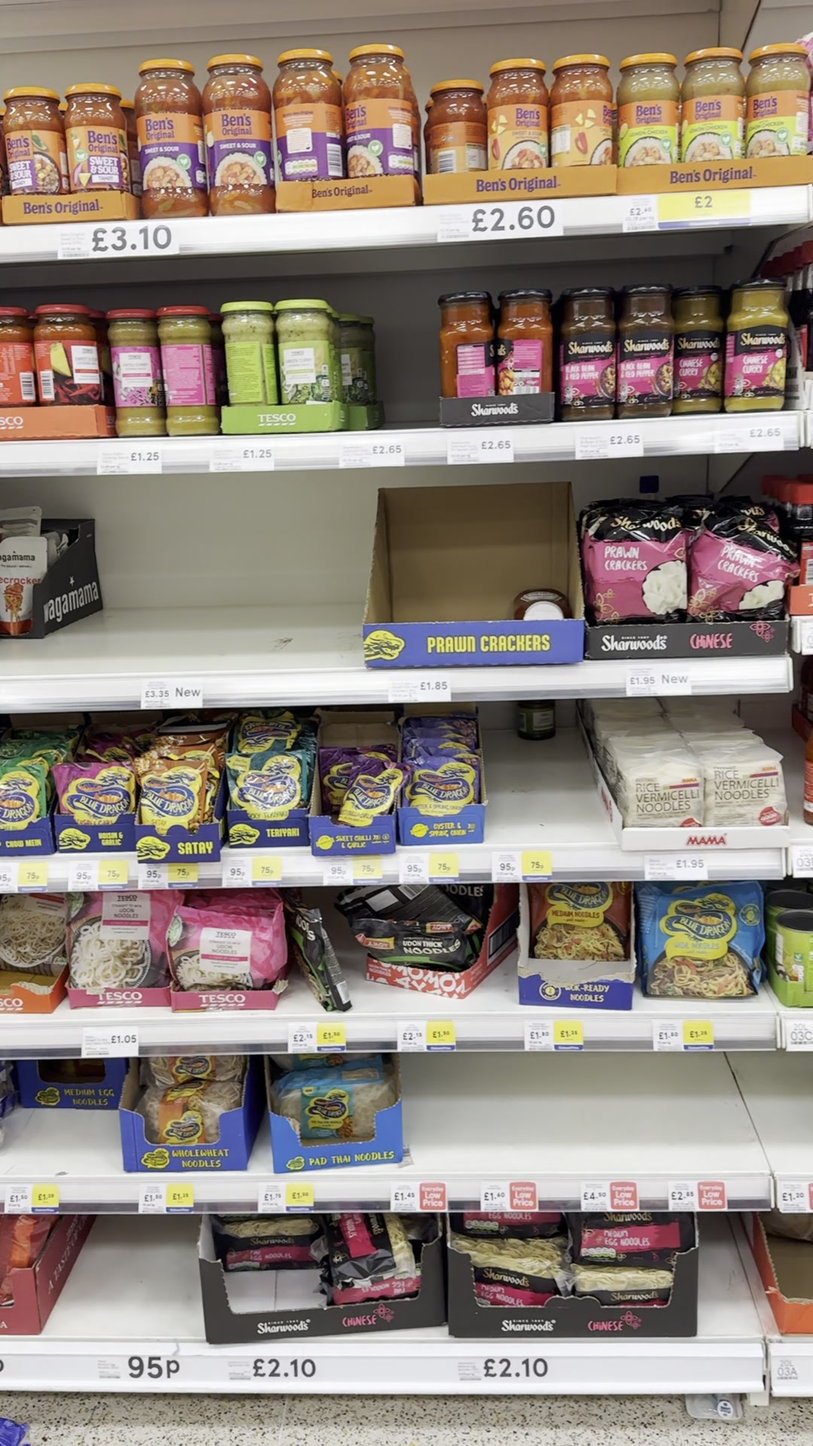medium: (440, 202, 560, 241), (65, 222, 176, 256), (95, 1354, 188, 1385), (460, 1356, 548, 1387), (224, 1357, 319, 1384)
small: (621, 189, 752, 231), (712, 416, 782, 451), (576, 425, 641, 459), (339, 434, 405, 467), (96, 442, 163, 474), (447, 432, 513, 464), (286, 1021, 346, 1054), (222, 853, 282, 886), (137, 1178, 193, 1213), (524, 1017, 583, 1050), (209, 442, 273, 471), (3, 1183, 59, 1216), (626, 668, 694, 695), (138, 678, 203, 706), (390, 1179, 445, 1212), (668, 1179, 723, 1212), (258, 1180, 312, 1213), (398, 1021, 455, 1052), (73, 858, 129, 889), (400, 850, 455, 881), (582, 1183, 637, 1213), (643, 853, 708, 878), (495, 852, 553, 880), (0, 859, 47, 893), (480, 1182, 535, 1211), (83, 1027, 138, 1055), (324, 856, 376, 883), (403, 673, 450, 700), (777, 1180, 813, 1213)
